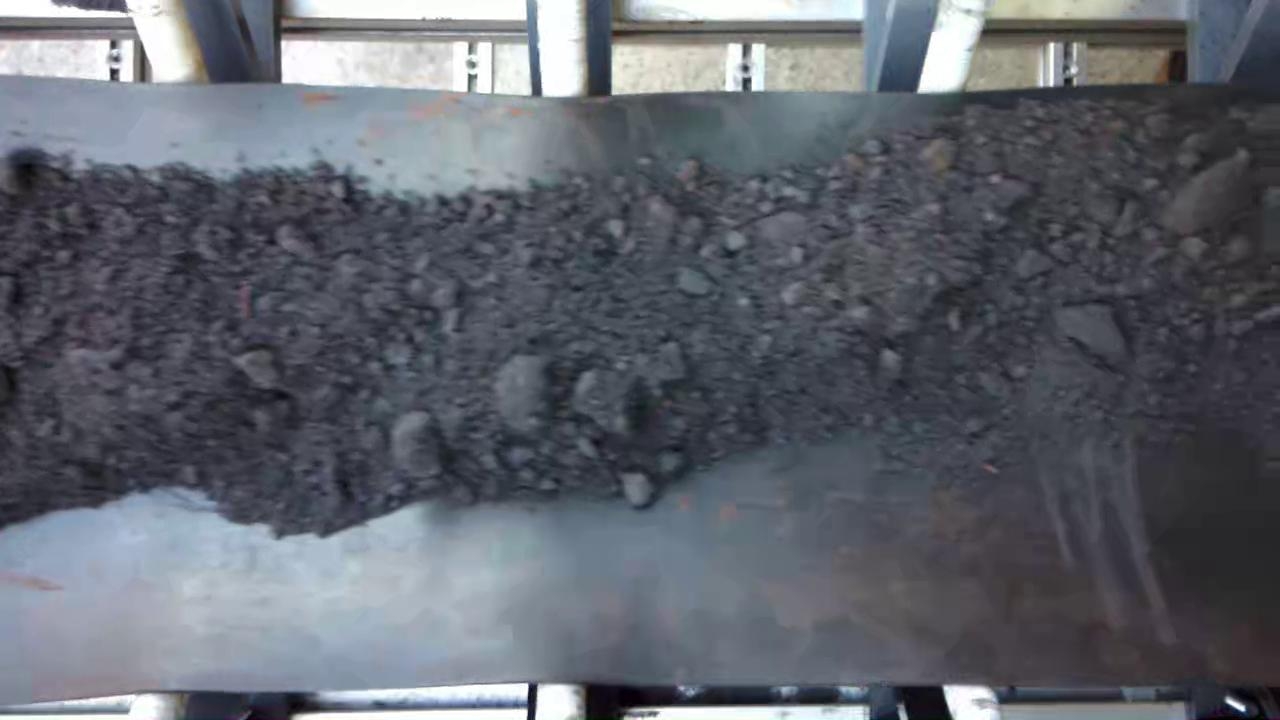conveyor: (1, 96, 1280, 674)
